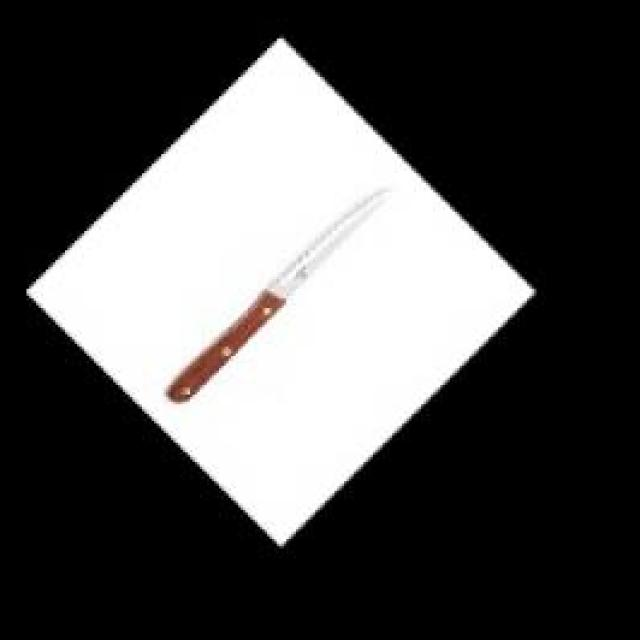knife: (154, 182, 407, 412)
